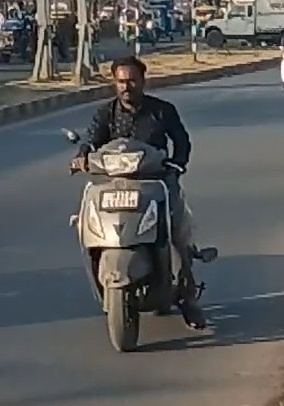BikeWithRider: (55, 50, 224, 356)
NoHelmet: (103, 52, 154, 106)
